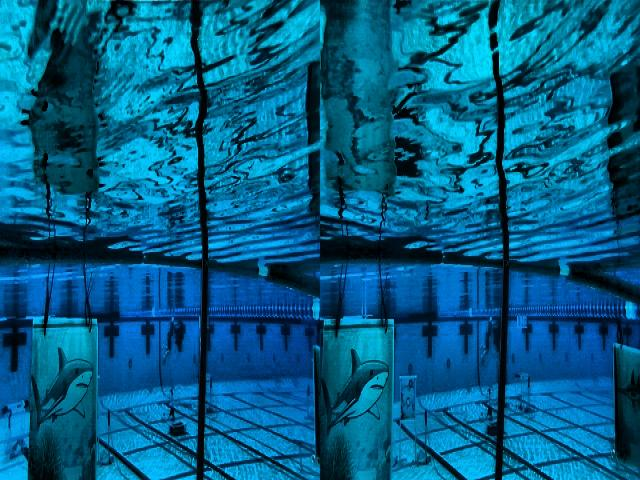gate: (319, 233, 640, 480), (0, 233, 321, 479)
octagon_table: (514, 370, 531, 414), (196, 375, 212, 412)
sawfish: (612, 340, 640, 473)
shark: (320, 323, 393, 480), (32, 323, 98, 480)
